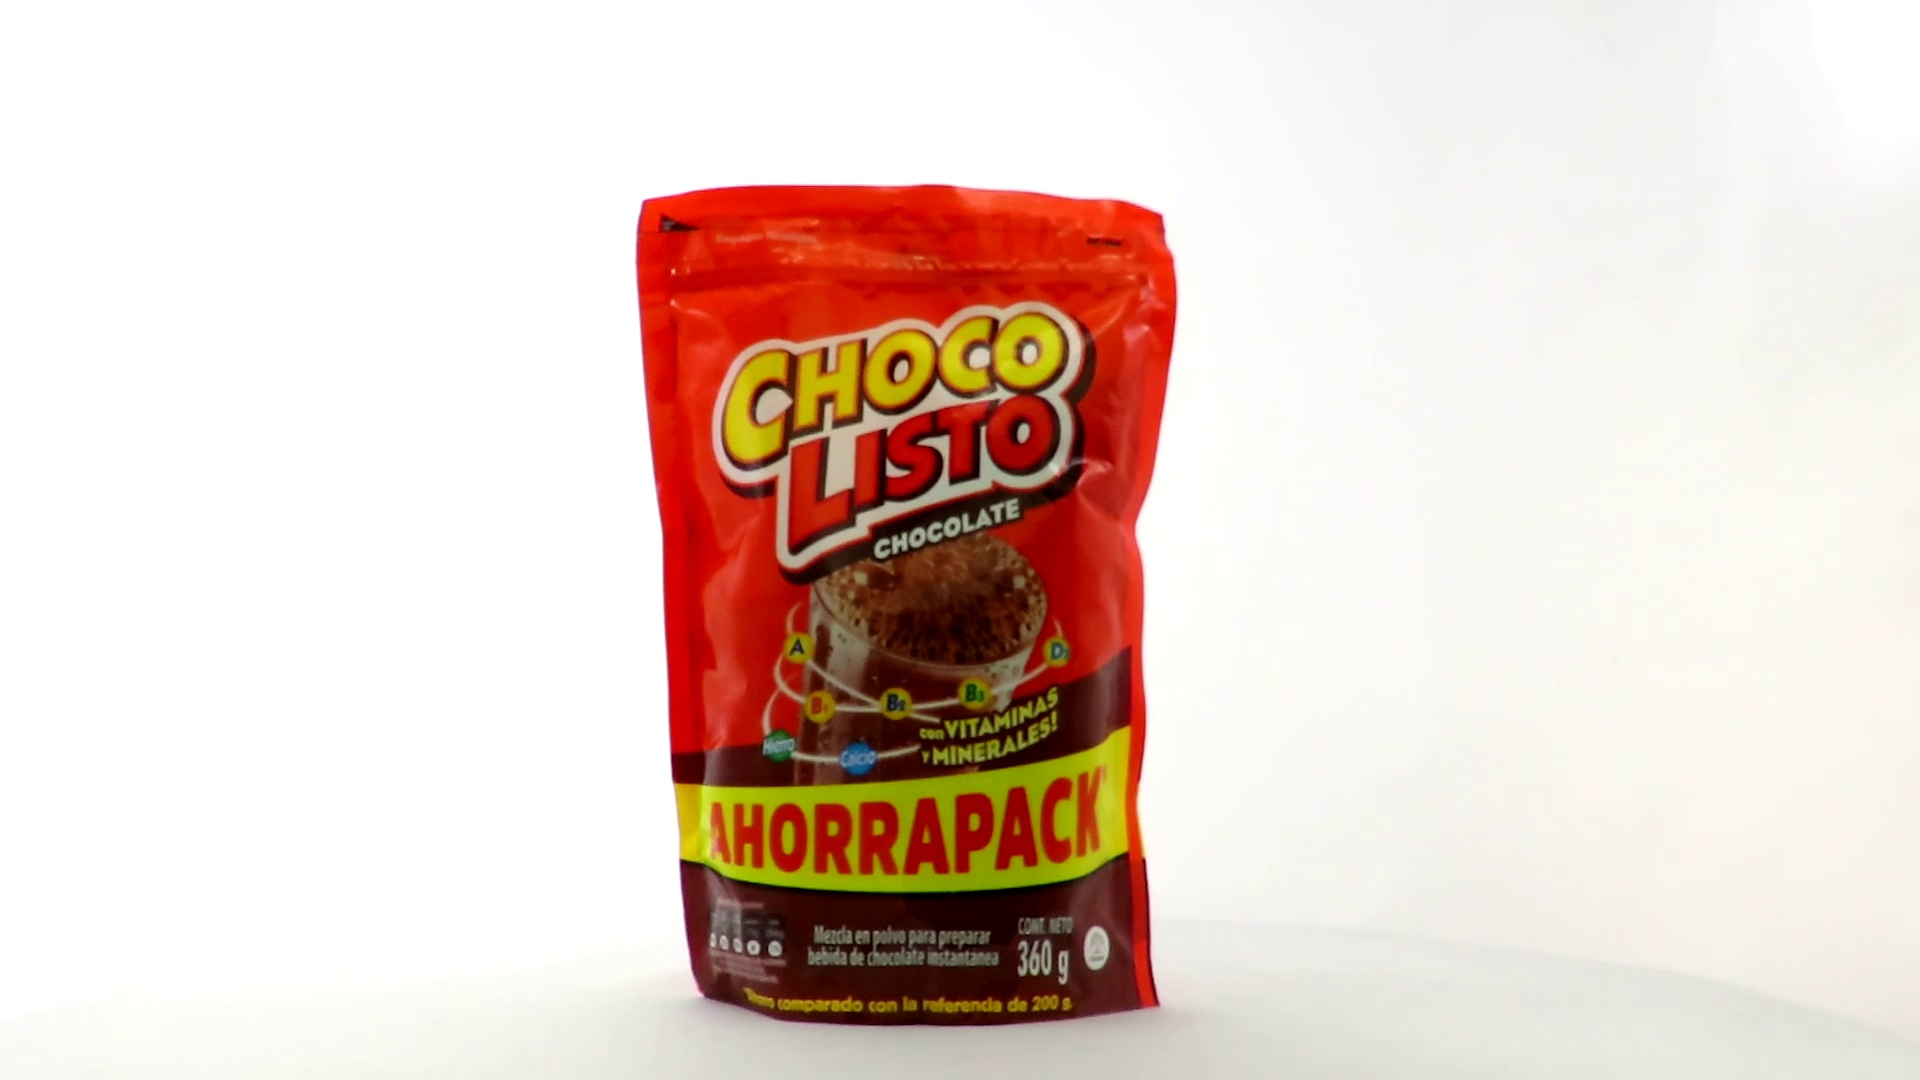COL0170103DYP36000: (630, 179, 1183, 1033)
